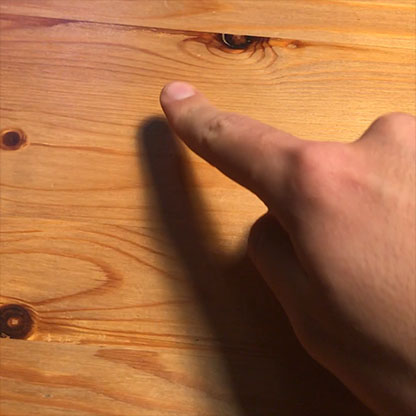fingertip: (159, 73, 203, 111)
